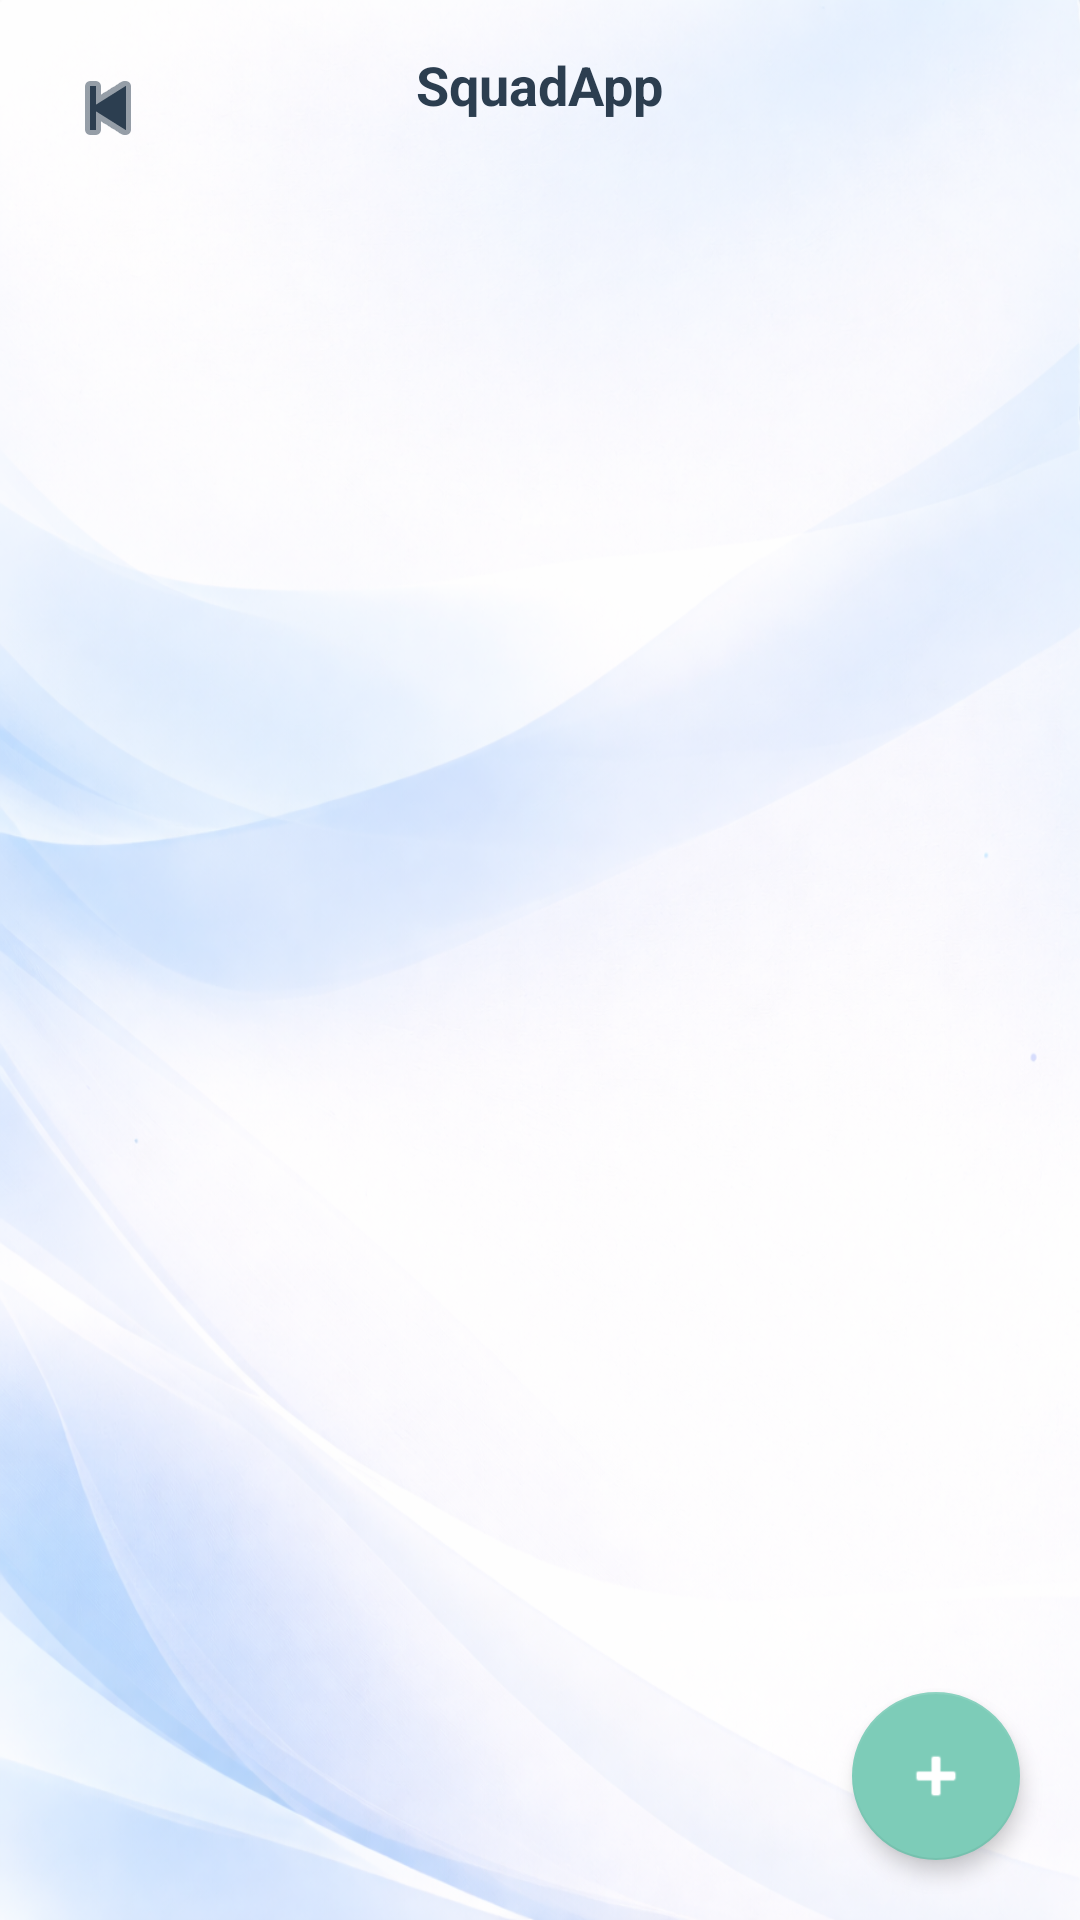

Icons on this 1080px×1920px Android screen, each with the point to tap as point (x, y):
add: point (936, 1776)
previous: point (108, 108)
